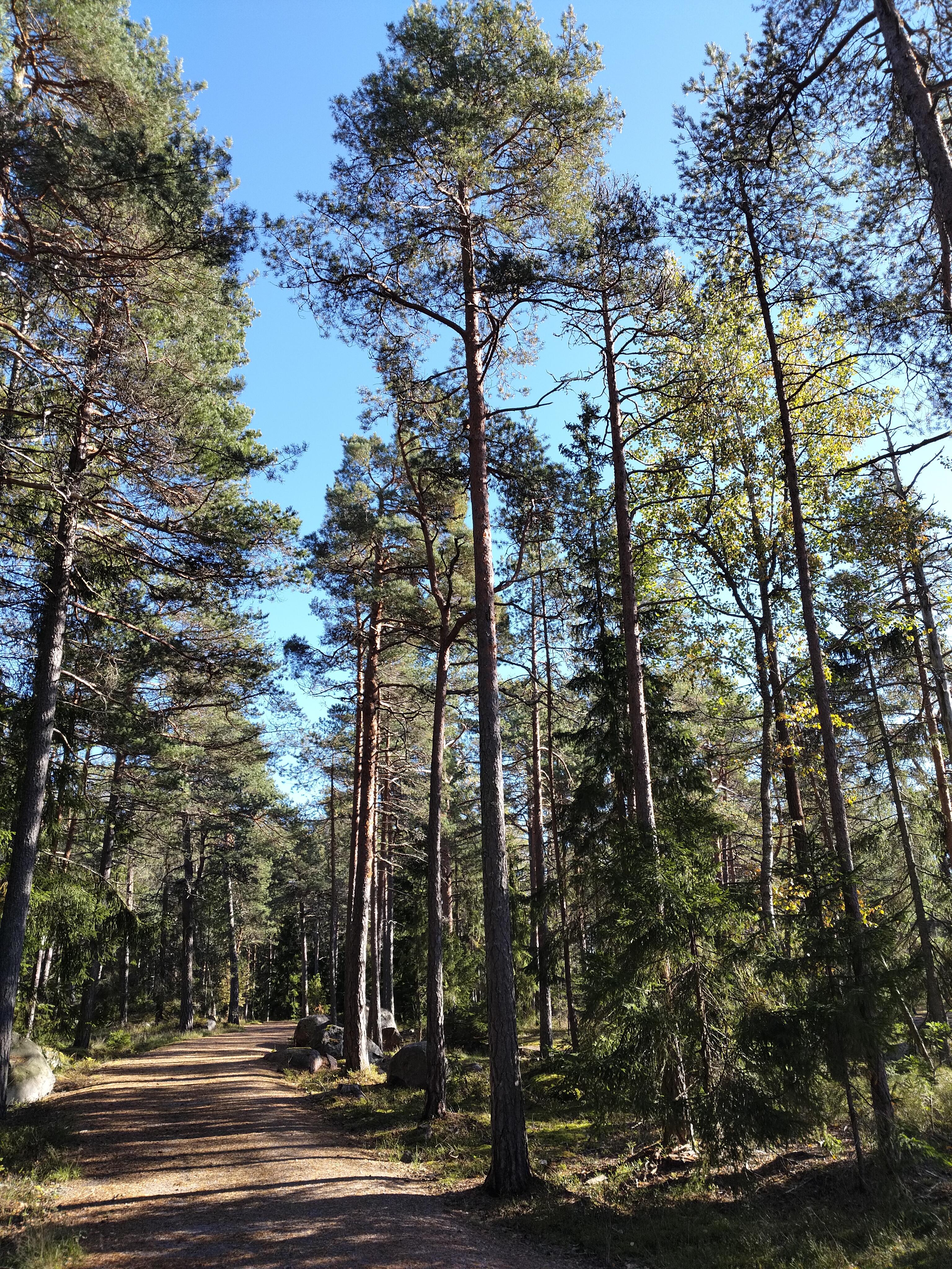Pine: (260, 1, 627, 1197), (1, 1, 305, 1116)
